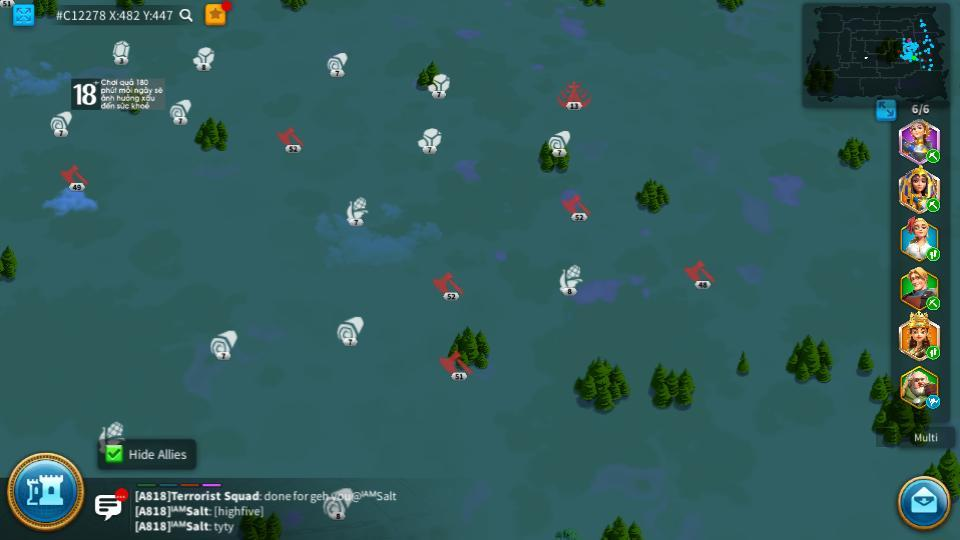gem-z-out: (109, 40, 132, 64)
march_farming: (925, 197, 941, 212), (925, 345, 941, 359), (925, 297, 942, 310), (925, 248, 941, 261)
march_idle: (925, 394, 942, 408)
march_marching: (925, 150, 942, 162)
